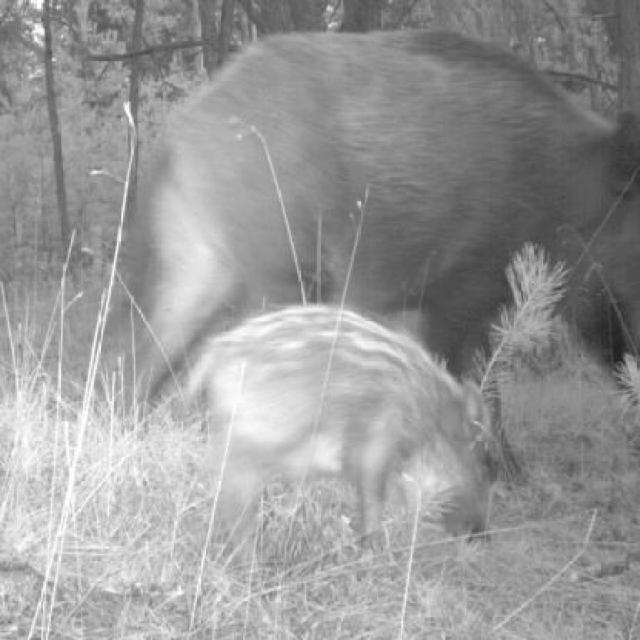pig: (206, 291, 508, 572)
